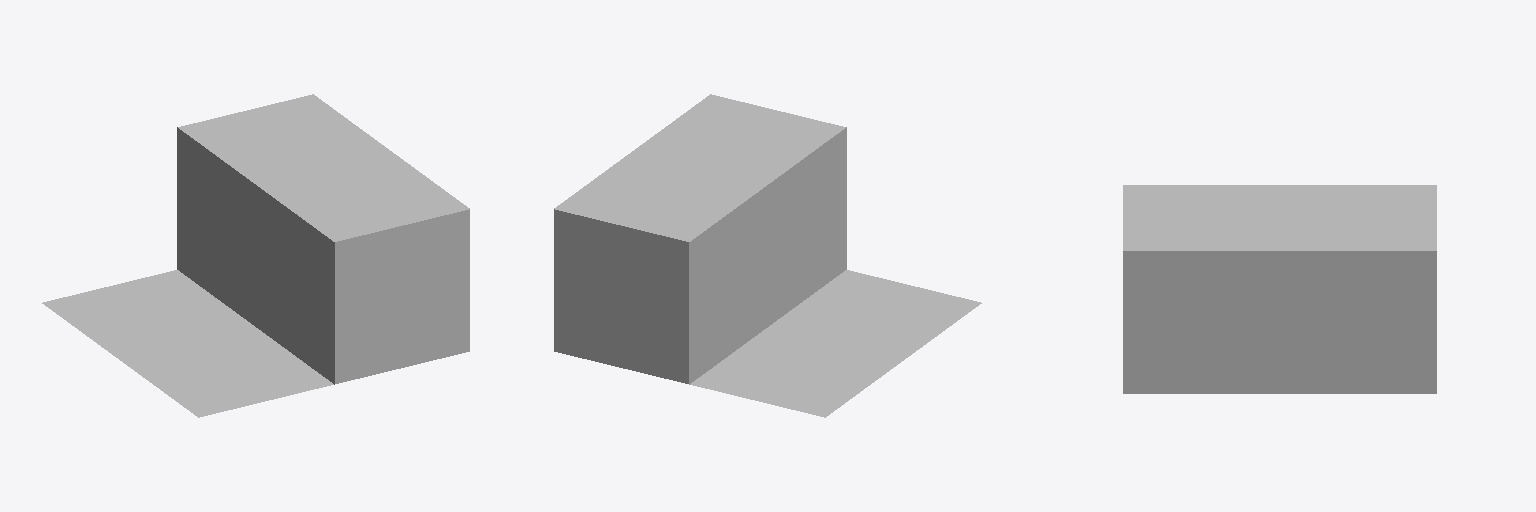
The model's file is background1.obj.
3 renders of one model, left to right at view 1: azimuth 30°, elevation 25°; view 2: azimuth 150°, elevation 25°; view 3: azimuth 270°, elevation 25°, orthographic.
Parts seen in each view (by area): view 1: Plane; view 2: Plane; view 3: Plane.
Part boxes in pixels (left/top/right/bottom): Plane: left=42, top=94, right=469, bottom=417; Plane: left=554, top=94, right=981, bottom=417; Plane: left=1123, top=185, right=1436, bottom=393.
Size of the model in its own units: 10 by 5 by 10.